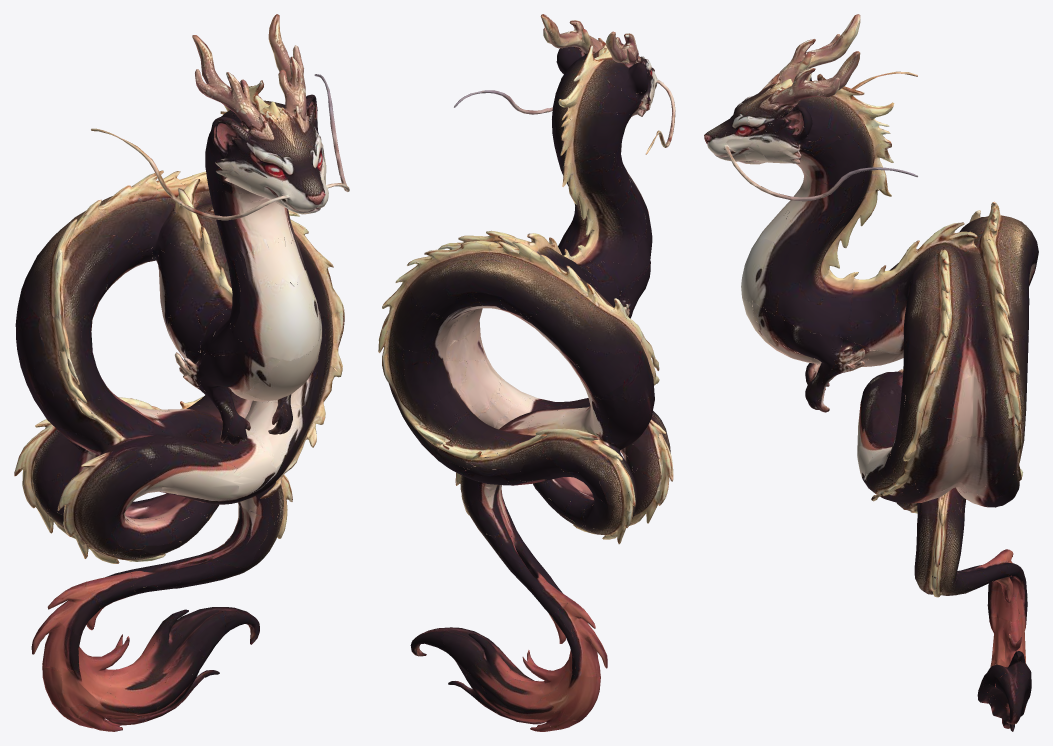
3 renders of one model, left to right at view 1: azimuth 30°, elevation 25°; view 2: azimuth 150°, elevation 25°; view 3: azimuth 270°, elevation 25°, orthographic. The views are drawn at different scales.
Visible parts, largest first — view 1: Mesh_0; view 2: Mesh_0; view 3: Mesh_0.
Boxes of the visible parts, left/top/right/bottom form: Mesh_0: left=14, top=14, right=349, bottom=731; Mesh_0: left=378, top=14, right=675, bottom=731; Mesh_0: left=704, top=14, right=1038, bottom=731.
Size of the model in its own units: 0.7686 by 1.9 by 0.8302.
1 material, 1 textured.
